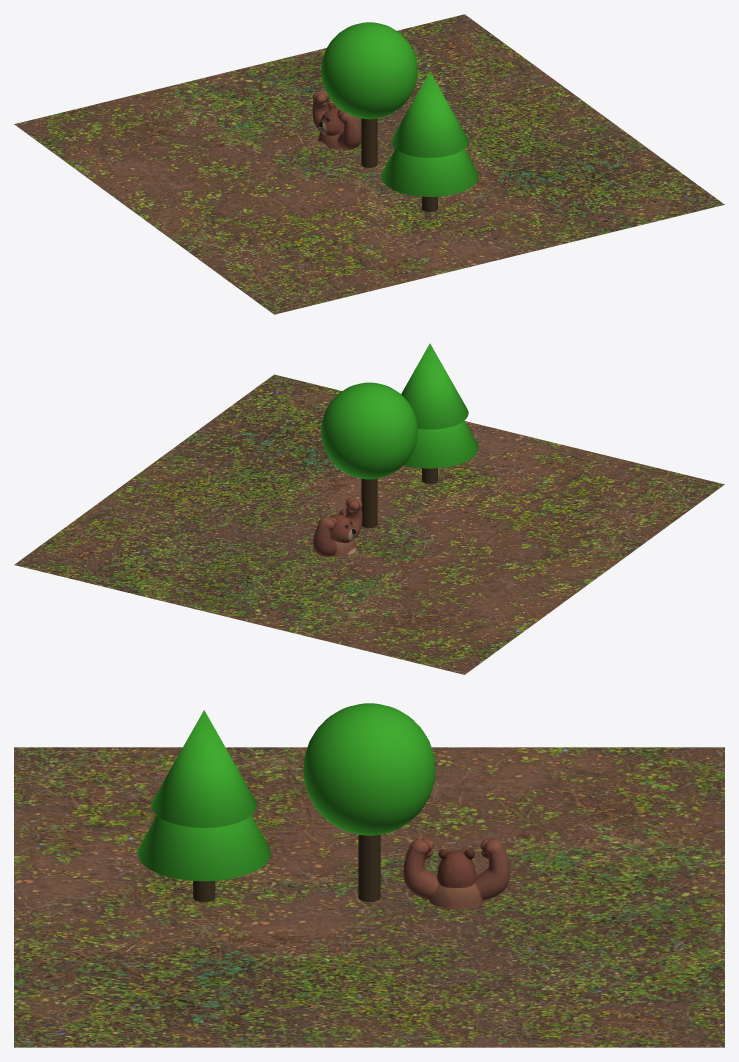
3 renders of one model, top to bottom at view 1: azimuth 30°, elevation 25°; view 2: azimuth 150°, elevation 25°; view 3: azimuth 270°, elevation 25°, orthographic. The views are drawn at different scales.
Visible parts, largest first — view 1: Plane, Tree2, Tree1, left arm_geom, head_geom; view 2: Plane, Tree2, Tree1, right arm_geom, head_geom; view 3: Plane, Tree2, Tree1, right arm_geom, left arm_geom, head_geom, torso_geom.
Boxes of the visible parts, x1,y1,x2,y2 form: Plane: [14, 14, 724, 314]; Tree2: [321, 22, 417, 167]; Tree1: [381, 72, 478, 212]; left arm_geom: [338, 110, 361, 149]; head_geom: [319, 103, 343, 135]; Plane: [14, 374, 724, 674]; Tree2: [321, 382, 417, 527]; Tree1: [401, 343, 478, 483]; right arm_geom: [313, 517, 336, 556]; head_geom: [329, 510, 355, 542]; Plane: [14, 747, 724, 1047]; Tree2: [303, 703, 435, 902]; Tree1: [137, 710, 270, 902]; right arm_geom: [475, 838, 509, 900]; left arm_geom: [403, 838, 438, 900]; head_geom: [437, 848, 476, 887]; torso_geom: [429, 882, 484, 909].
Bounding box in the file's own units: 20 × 8.14 × 20.
Materials: 10 (7 with a texture image).
